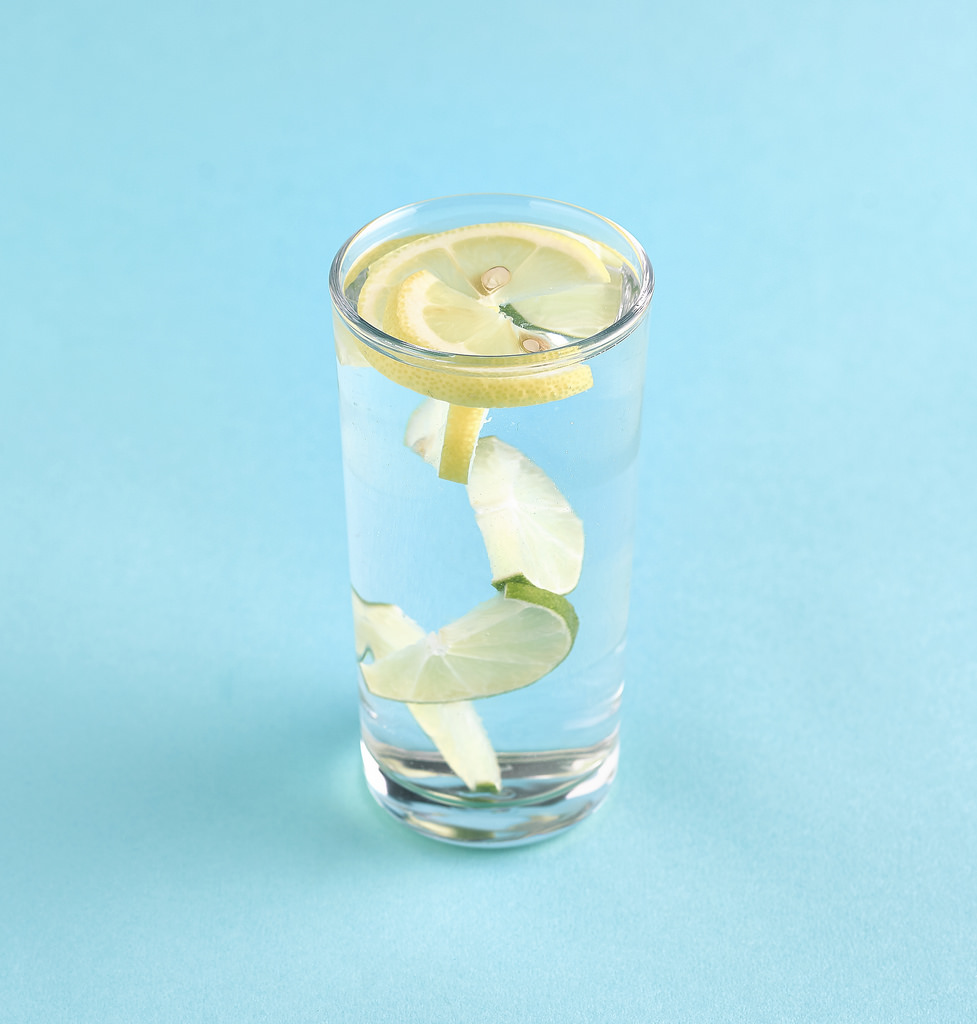glass of water: (329, 257, 654, 844)
